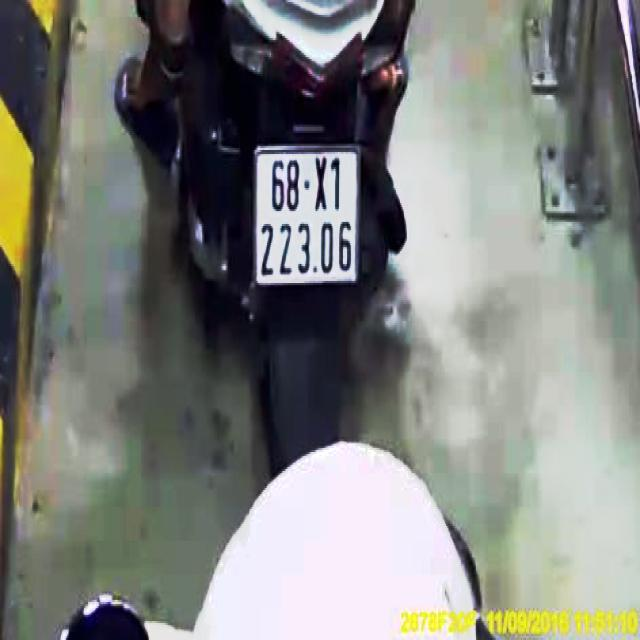license_plate: (256, 148, 361, 281)
